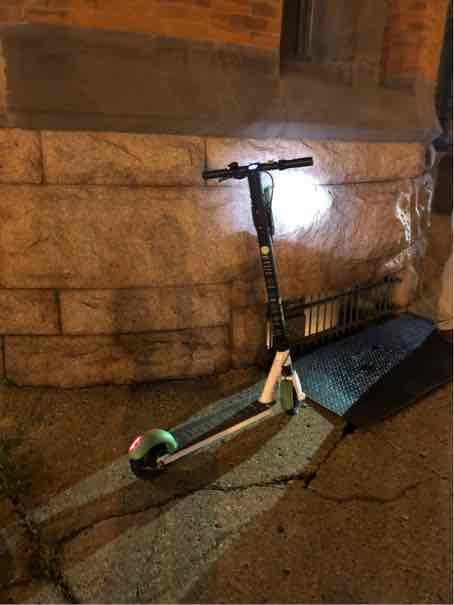scooter: (115, 143, 316, 486)
